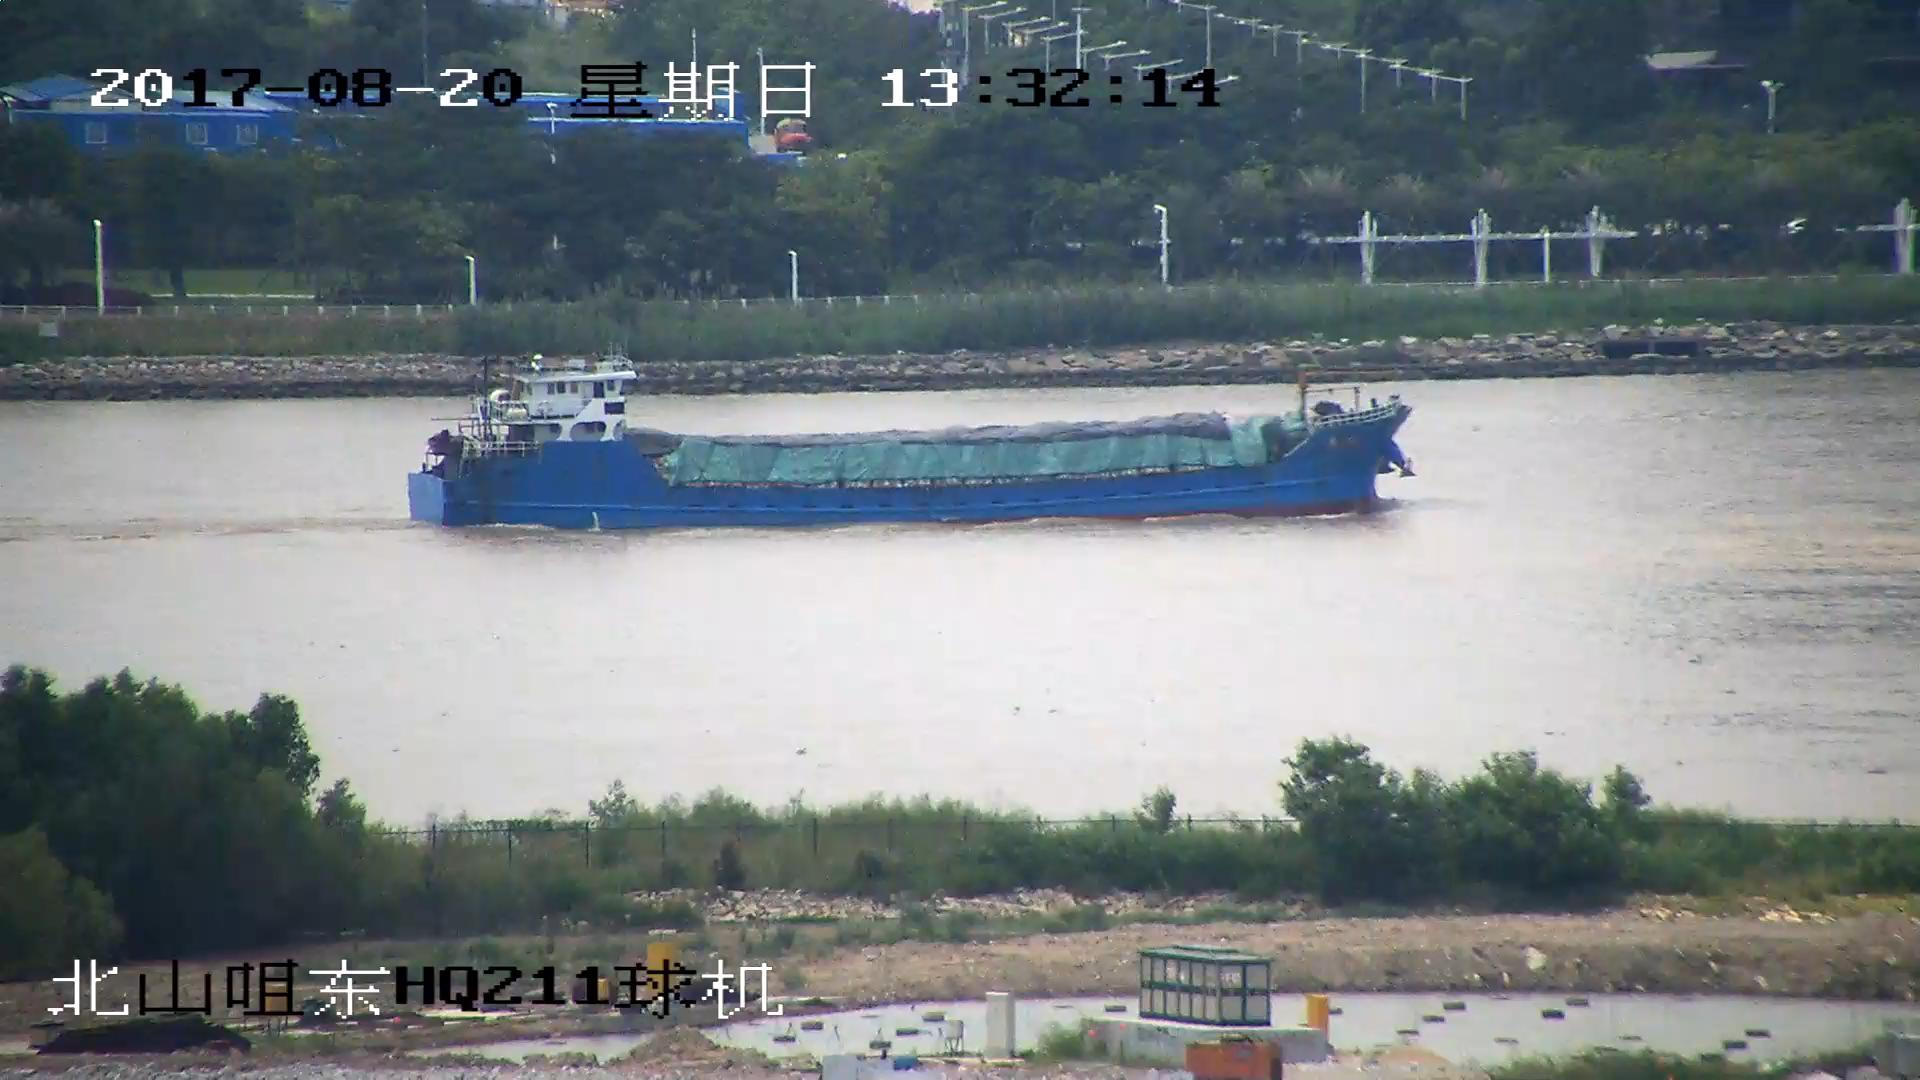Ship: (411, 353, 1418, 527)
